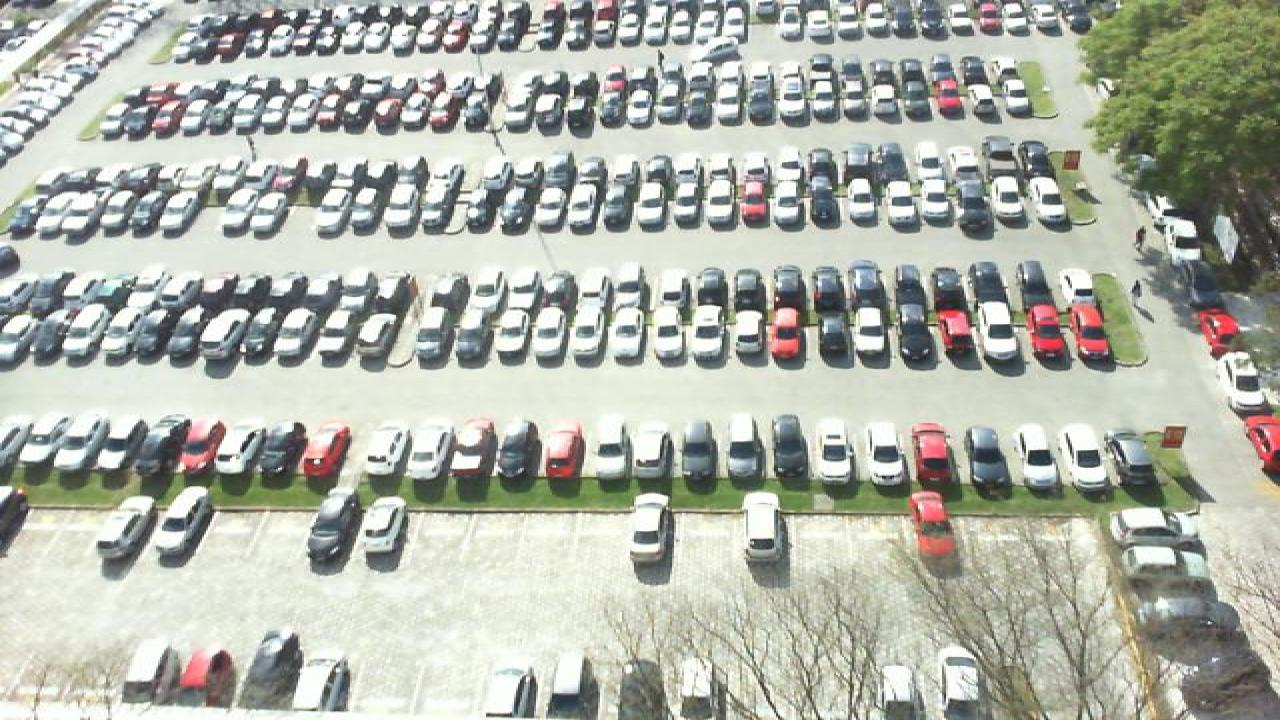Car: (244, 628, 300, 701), (932, 643, 984, 720), (156, 483, 216, 549), (910, 489, 962, 562), (98, 486, 156, 551), (1122, 544, 1210, 586), (548, 647, 598, 720), (482, 655, 538, 720), (306, 489, 360, 556), (674, 652, 726, 720), (1112, 507, 1202, 546), (628, 491, 676, 564), (122, 644, 178, 706), (178, 648, 234, 709), (740, 490, 786, 564), (296, 656, 350, 719), (1134, 593, 1224, 630), (1014, 422, 1060, 487), (874, 658, 922, 720), (360, 423, 412, 478), (866, 416, 908, 484), (910, 420, 956, 482), (1064, 423, 1108, 487), (812, 416, 854, 483), (962, 423, 1008, 484), (94, 414, 144, 470), (362, 497, 410, 555), (978, 300, 1024, 360), (302, 423, 352, 478), (452, 419, 498, 478), (1066, 300, 1112, 359), (1022, 302, 1068, 360), (680, 415, 722, 478), (142, 414, 188, 471), (768, 413, 808, 478), (1112, 428, 1160, 482), (198, 308, 248, 359), (728, 412, 766, 478), (218, 423, 270, 471), (634, 419, 674, 480), (894, 299, 934, 360), (1230, 351, 1272, 409), (498, 419, 540, 477), (410, 421, 454, 476), (1240, 415, 1280, 474), (40, 412, 82, 468), (1192, 306, 1242, 352), (316, 307, 360, 359), (0, 414, 42, 468), (854, 299, 892, 358), (182, 419, 224, 472), (544, 424, 586, 477), (356, 309, 400, 359), (260, 422, 302, 474), (62, 304, 104, 356), (96, 304, 138, 356), (282, 304, 324, 356), (816, 303, 854, 360), (456, 306, 496, 360), (594, 420, 632, 476), (938, 306, 978, 359), (414, 305, 452, 360), (132, 307, 172, 359), (770, 306, 808, 360), (610, 302, 646, 358), (690, 303, 726, 359), (652, 305, 688, 359), (244, 308, 282, 359), (572, 305, 608, 358), (730, 306, 766, 359), (26, 310, 64, 359), (164, 310, 202, 358), (534, 306, 568, 359), (496, 308, 530, 359), (0, 309, 32, 359)
